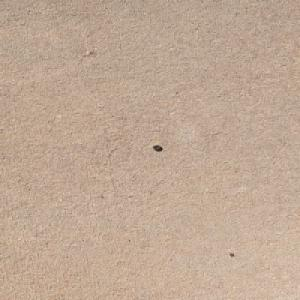Nut: (151, 144, 161, 149)
